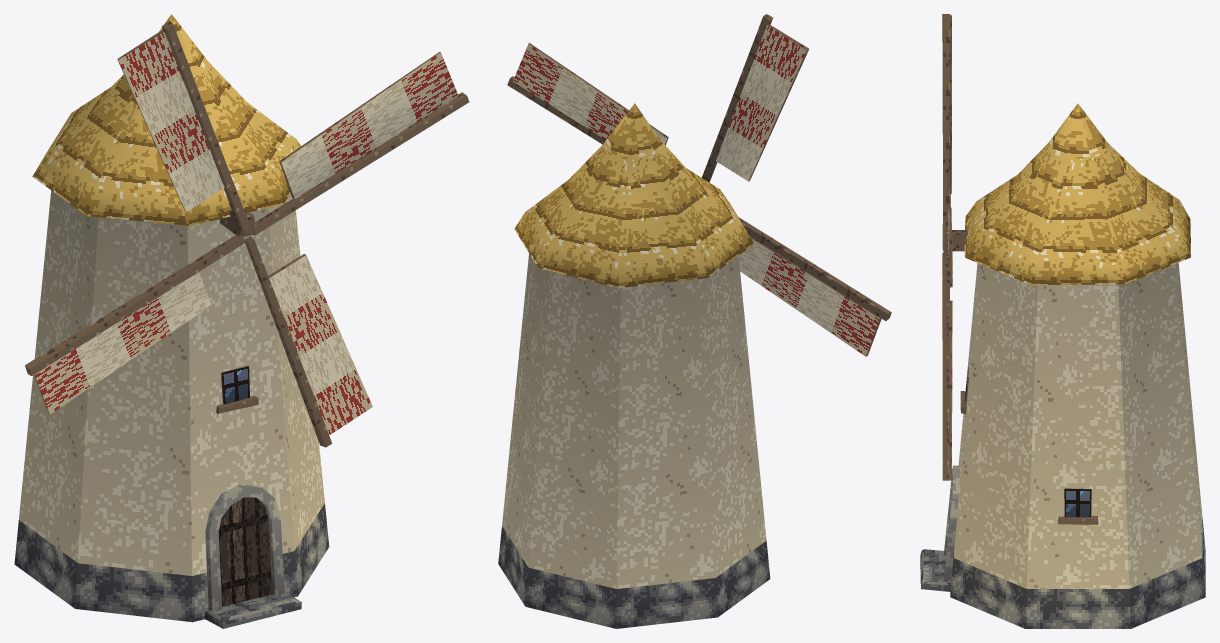
Rendered from vlg.mill.glb.
The picture shows the model from 3 angles, left to right: view 1: azimuth 30°, elevation 25°; view 2: azimuth 150°, elevation 25°; view 3: azimuth 270°, elevation 25°; orthographic projection. The views are drawn at different scales.
Visible parts, largest first — view 1: kit_walls, kit_fittings, kit_roof, kit_frame; view 2: kit_walls, kit_roof, kit_fittings, kit_frame; view 3: kit_walls, kit_roof, kit_fittings, kit_frame.
Boxes of the visible parts, box(x1,y1,x2,y2) form: kit_walls: box(14, 190, 329, 622); kit_fittings: box(34, 30, 458, 628); kit_roof: box(32, 14, 300, 225); kit_frame: box(25, 20, 469, 447); kit_walls: box(498, 253, 770, 628); kit_roof: box(514, 103, 754, 288); kit_fittings: box(513, 24, 881, 356); kit_frame: box(507, 14, 891, 320); kit_walls: box(950, 262, 1205, 628); kit_roof: box(964, 103, 1190, 285); kit_fittings: box(920, 15, 1098, 591); kit_frame: box(942, 14, 967, 480).
Bounding box in the file's own units: 8.33 × 10.99 × 5.37.
Materials: 9 (9 with a texture image).
